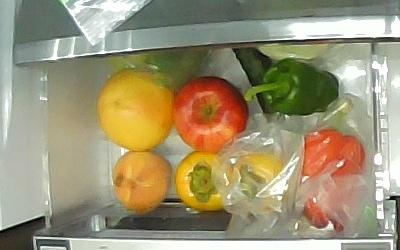apple: (174, 76, 248, 154)
cucumber: (230, 46, 286, 127)
grapefruit: (95, 68, 173, 151)
paprika: (243, 57, 339, 117)
paprika_vinyl: (300, 128, 365, 231)
peach: (111, 150, 172, 214)
persimmon: (174, 151, 233, 211)
persimmon_vinyl: (230, 154, 284, 212)
